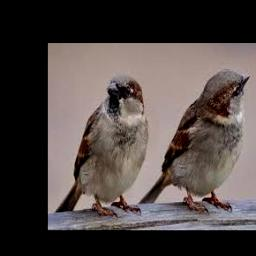Sparrow: (137, 69, 250, 213), (55, 73, 149, 217)
